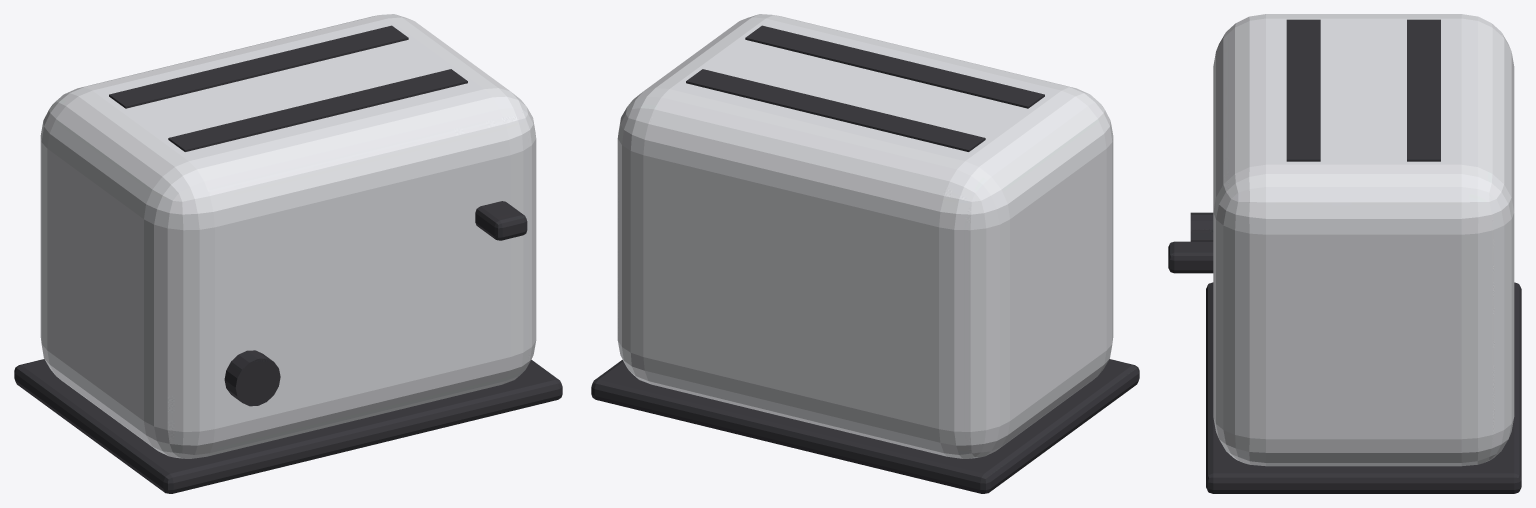
Rendered from toaster.glb.
3 renders of one model, left to right at view 1: azimuth 30°, elevation 25°; view 2: azimuth 150°, elevation 25°; view 3: azimuth 270°, elevation 25°, orthographic.
Visible parts, largest first — view 1: toaster; view 2: toaster; view 3: toaster.
Part boxes in pixels (x1,y1,x2,y2): toaster: (14, 14, 562, 493); toaster: (591, 14, 1139, 493); toaster: (1168, 14, 1521, 493).
Bounding box in the file's own units: 6.2 × 4.53 × 4.7.
1 material, 1 textured.
